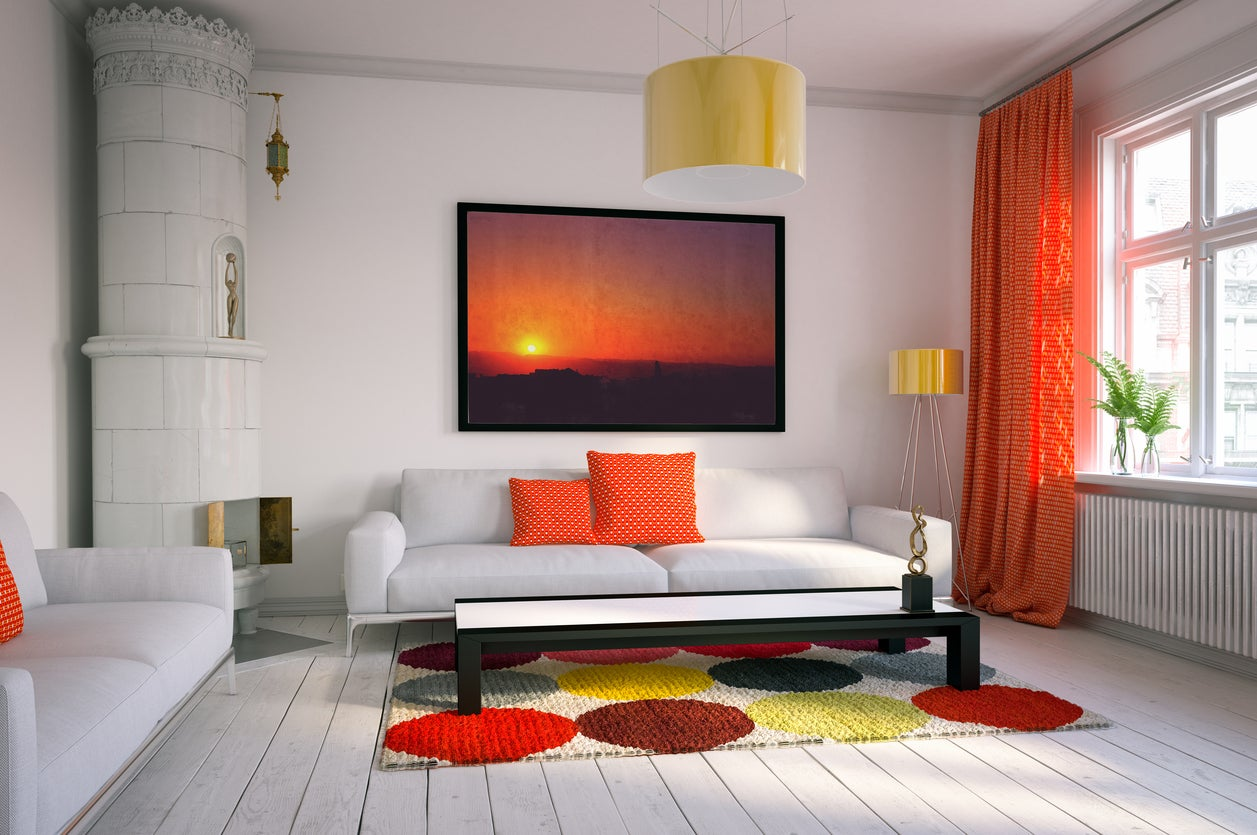hitam: (454, 601, 981, 695), (901, 574, 938, 611)
orange: (588, 452, 707, 545), (511, 477, 590, 548)
putih: (1, 496, 243, 812), (347, 469, 874, 589)
